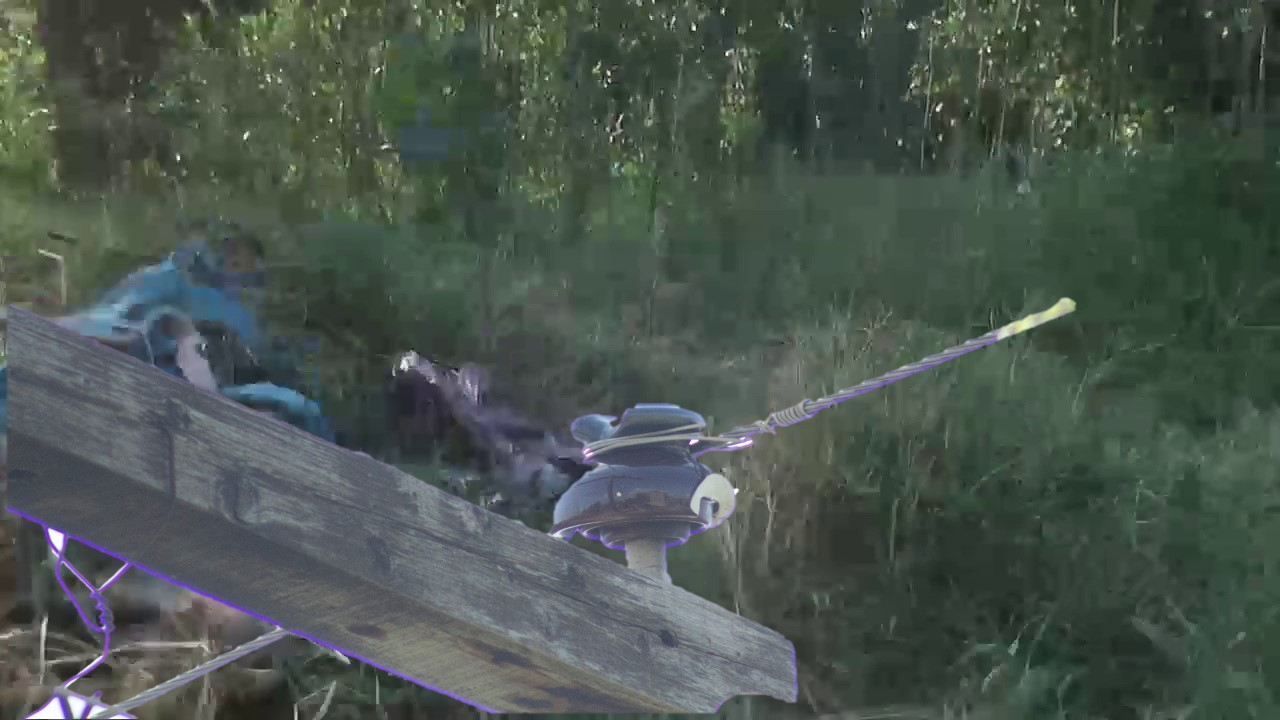defect_pin: (546, 394, 746, 542)
